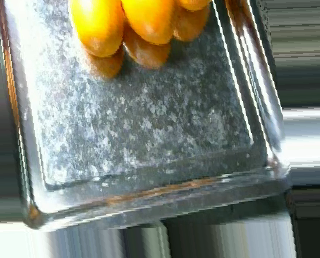Orange: (66, 1, 125, 55)
